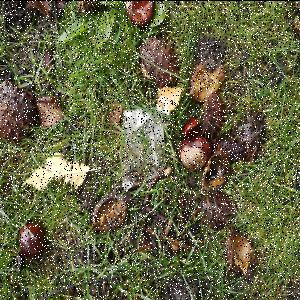Trash: (121, 103, 167, 193)
